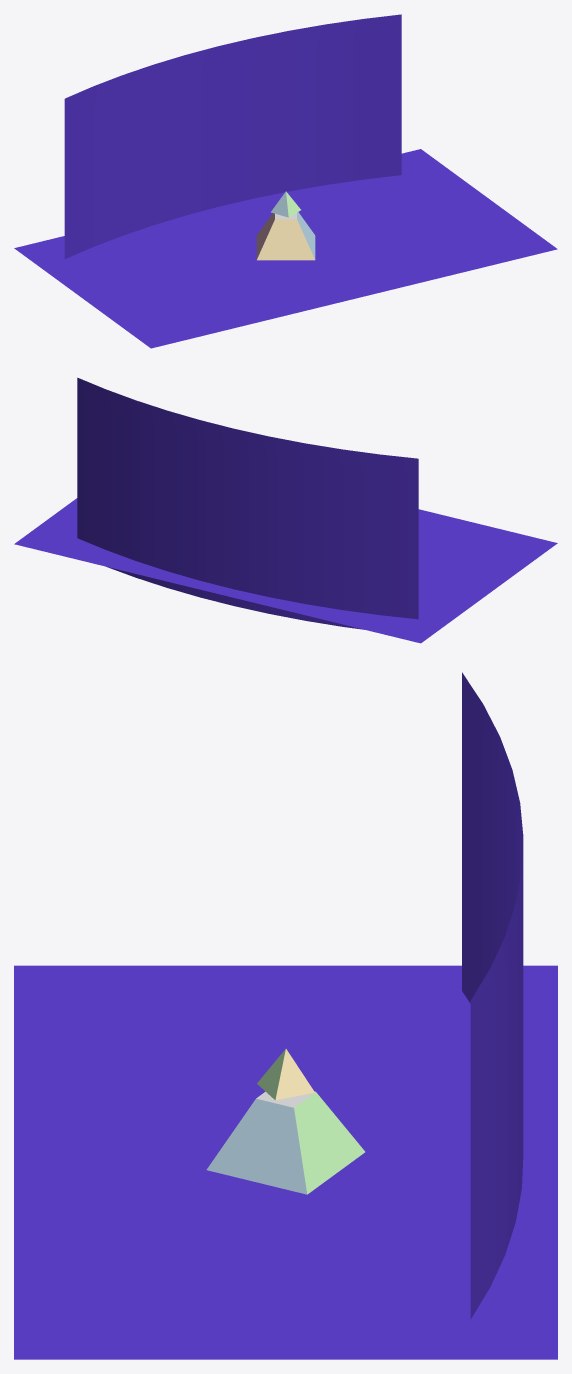
The model's file is hey.gltf.
The picture shows the model from 3 angles, top to bottom: view 1: azimuth 30°, elevation 25°; view 2: azimuth 150°, elevation 25°; view 3: azimuth 270°, elevation 25°; orthographic projection. The views are drawn at different scales.
Parts seen in each view (by area): view 1: Plane.1, Plane, Pyramid_bas_1; view 2: Plane.1, Plane; view 3: Plane, Plane.1, Pyramid_bas.2, Pyramid_bas, Pyramid_haut.2.
Part boxes in pixels (bbox=[...]): Plane.1: bbox=[64, 14, 401, 258]; Plane: bbox=[14, 149, 557, 348]; Pyramid_bas_1: bbox=[257, 219, 314, 260]; Plane.1: bbox=[77, 377, 418, 629]; Plane: bbox=[14, 498, 557, 643]; Plane: bbox=[14, 965, 557, 1359]; Plane.1: bbox=[462, 672, 523, 1319]; Pyramid_bas.2: bbox=[206, 1098, 307, 1194]; Pyramid_bas: bbox=[294, 1092, 364, 1194]; Pyramid_haut.2: bbox=[275, 1049, 314, 1100].
Bounding box in the file's own units: 240 × 100 × 140.
